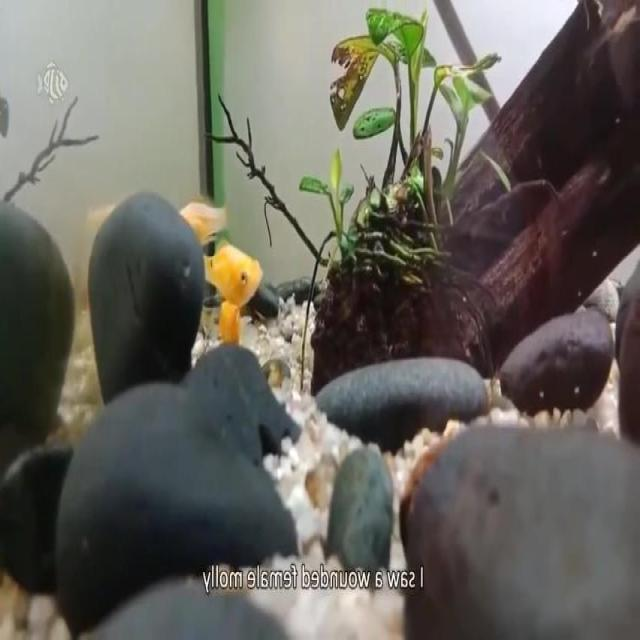PlatyFish: (196, 228, 266, 308)
